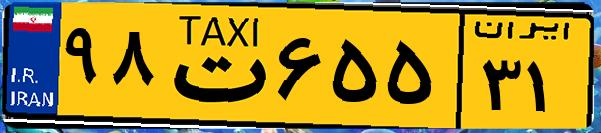1: (525, 38, 570, 115)
3: (475, 38, 525, 113)
5: (385, 28, 445, 110), (330, 28, 385, 110)
6: (270, 28, 330, 110)
8: (110, 28, 158, 98)
9: (57, 26, 110, 100)
ت: (158, 12, 270, 120)
